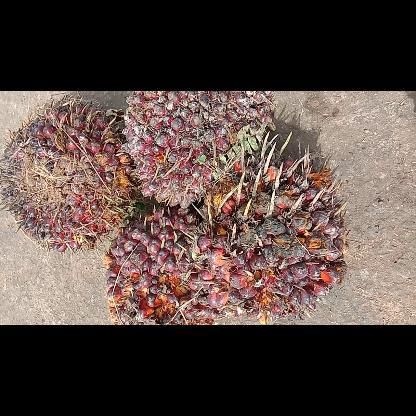Kurang masak: (0, 98, 134, 254), (118, 91, 278, 211)
TBS masak: (189, 128, 349, 324), (101, 204, 229, 324)
